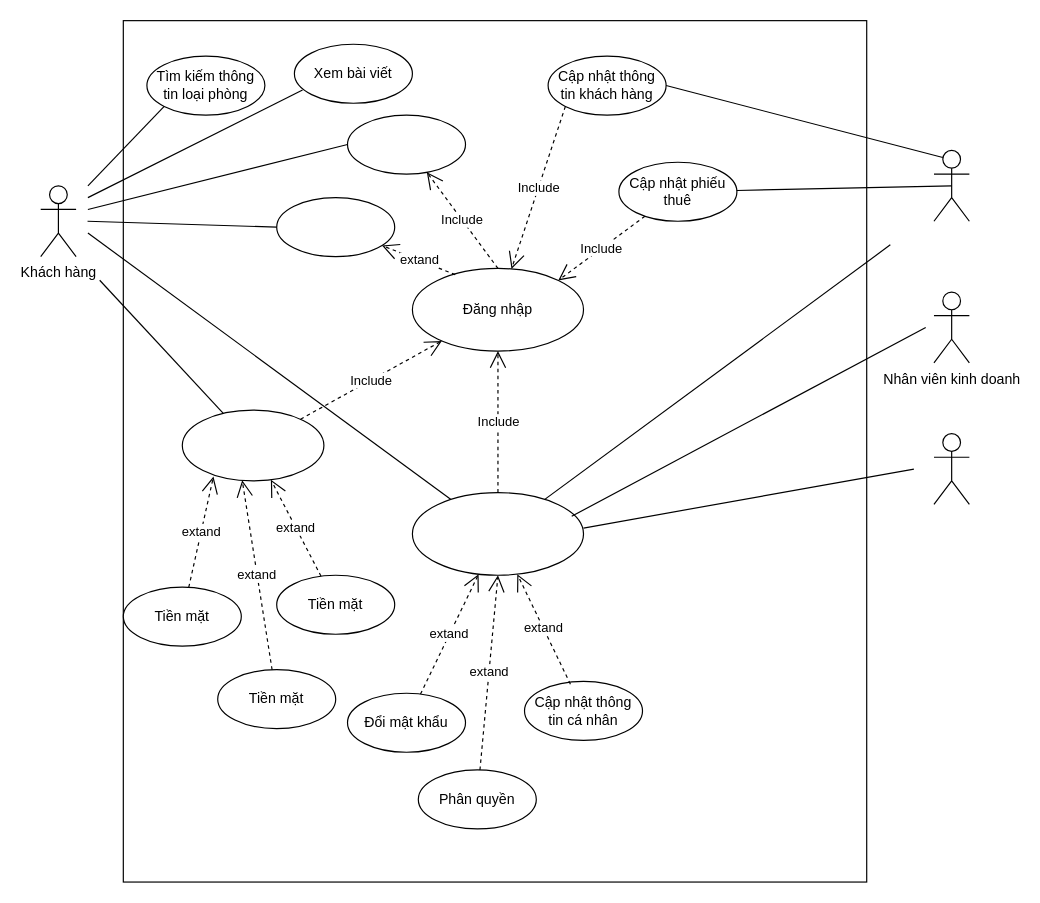
The diagram is 1040 pixels wide and 903 high, and some of its shapes have lost their labels. The shapes that lost their labels are listed below. From the top down, each one's centre as x and y in pixels, then its label:
At (406,144): "Đăng ký thành viên".
At (951,185): "Nhân viên lễ tân".
At (335,226): "Đặt phòng trực tuyến".
At (252,445): "Thanh toán".
At (951,468): "Nhân viên kế toán".
At (497,533): "Cập nhật thông tin tài khoản".
